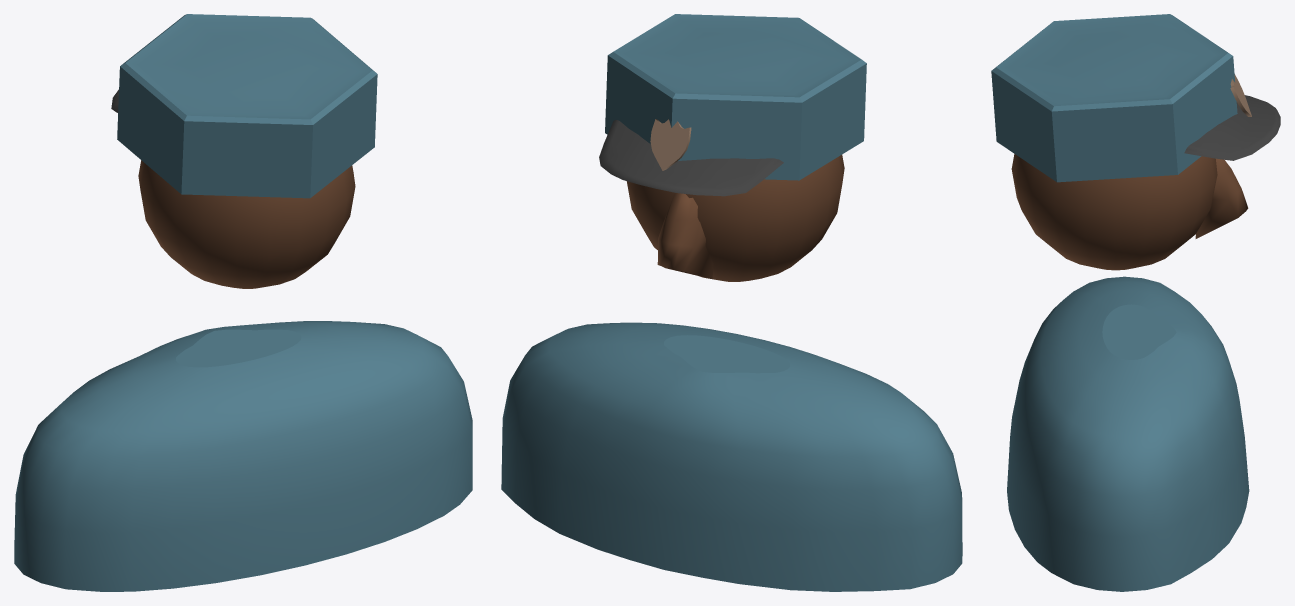
File: Copper.fbx
3 views of the same model, side by side, from view 1: azimuth 30°, elevation 25°; view 2: azimuth 150°, elevation 25°; view 3: azimuth 270°, elevation 25° (orthographic). The views are drawn at different scales.
Parts seen in each view (by area): view 1: pCylinder12; view 2: pCylinder12; view 3: pCylinder12.
Part boxes in pixels (x1,y1,x2,y2): pCylinder12: (14, 14, 472, 591); pCylinder12: (501, 14, 962, 591); pCylinder12: (991, 14, 1280, 591).
Bounding box in the file's own units: 1.65 × 1.66 × 0.9968.
